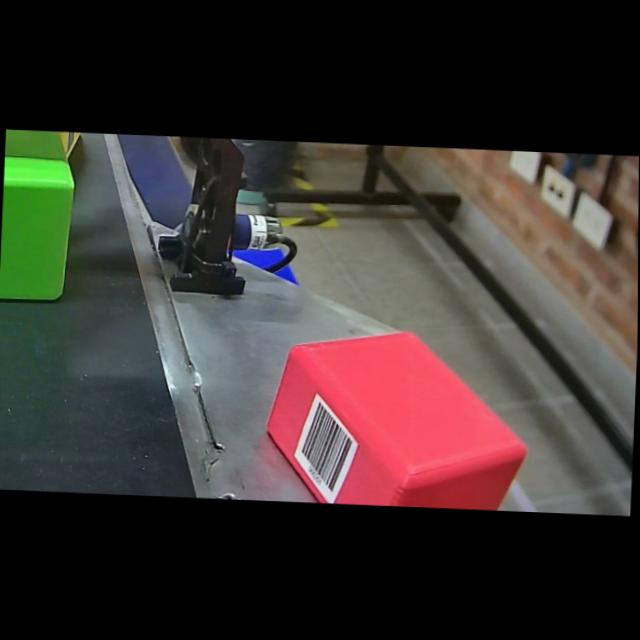greenBox: (0, 129, 83, 310)
redBox: (260, 320, 535, 511)
yellowBox: (4, 129, 88, 173)
